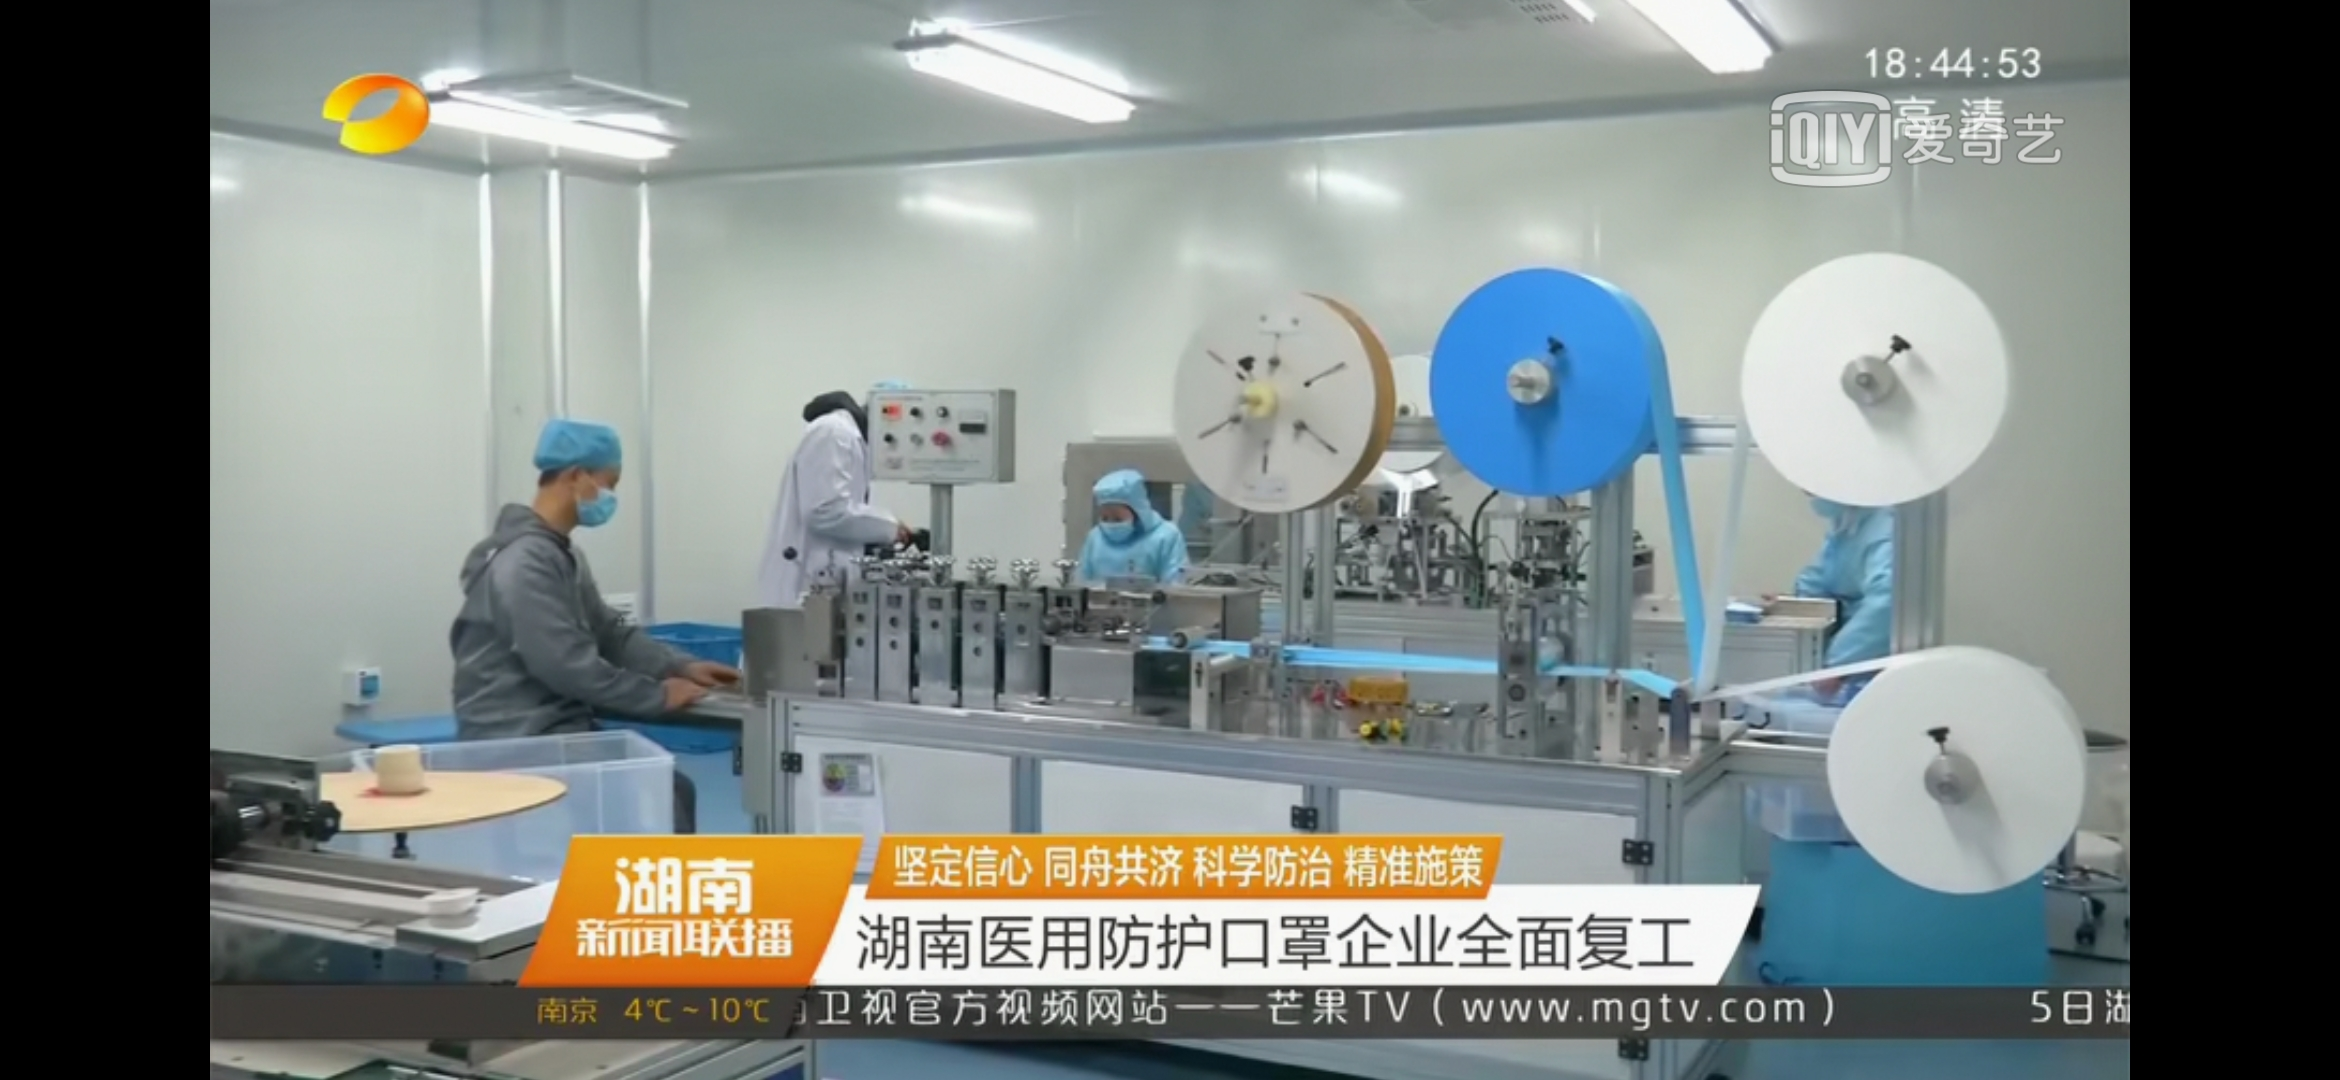correctlyWear: (557, 456, 622, 533), (1089, 486, 1149, 547)
